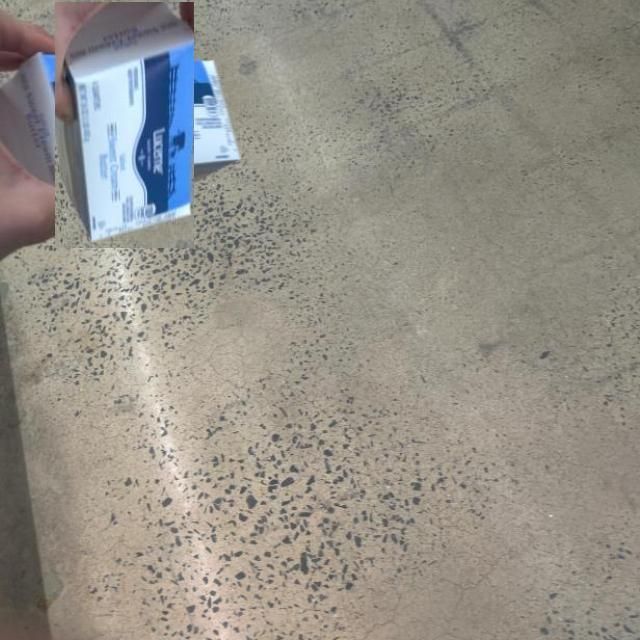Butter: (54, 3, 194, 248)
